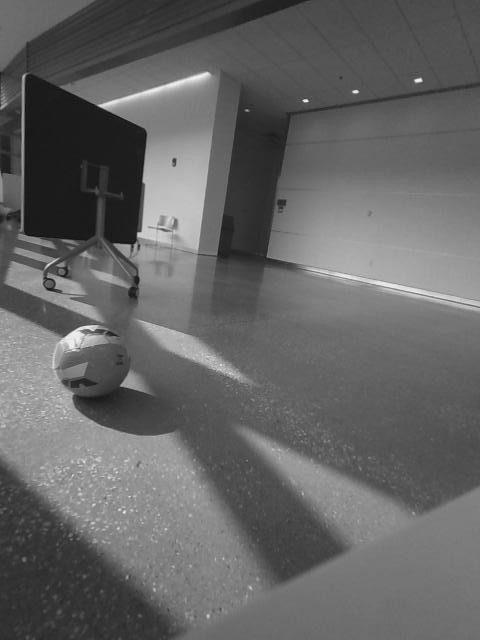ball: (52, 322, 135, 401)
